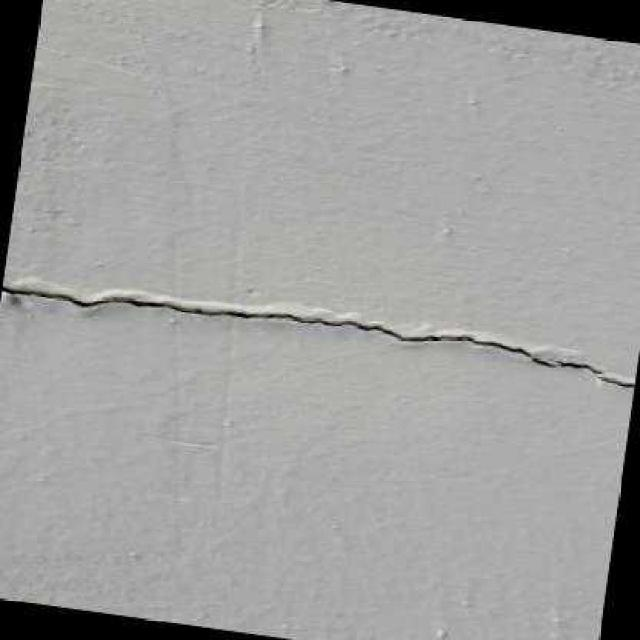D00: (0, 277, 635, 389)
